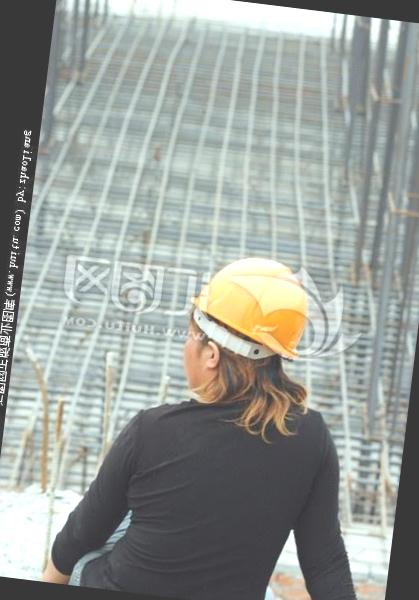helmet: (181, 248, 317, 356)
no_vest: (107, 373, 339, 600)
person: (34, 230, 409, 600)
